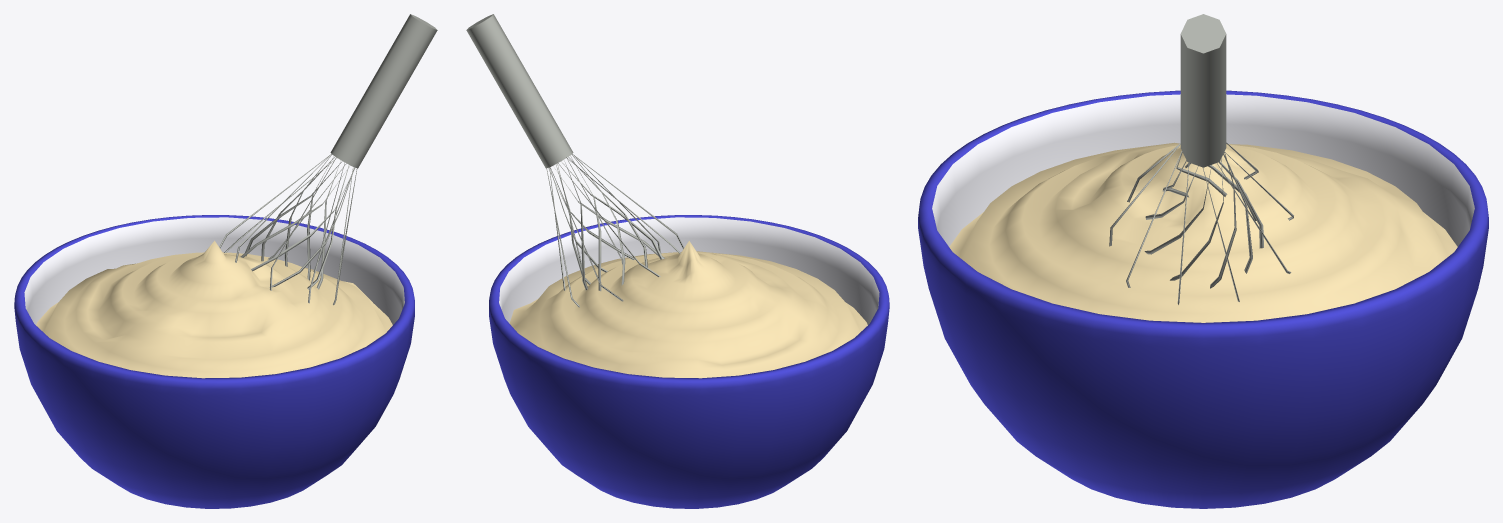
The model's file is cakeBatter.obj.
3 renders of one model, left to right at view 1: azimuth 30°, elevation 25°; view 2: azimuth 150°, elevation 25°; view 3: azimuth 270°, elevation 25°, orthographic. The views are drawn at different scales.
Visible parts, largest first — view 1: Sphere001, Cylinder001, Cylinder002, Torus_Knot001; view 2: Sphere001, Cylinder001, Cylinder002, Torus_Knot001; view 3: Sphere001, Cylinder001, Cylinder002, Torus_Knot001.
Part boxes in pixels (x1,y1,x2,y2): Sphere001: [14, 215, 414, 508]; Cylinder001: [36, 240, 392, 378]; Cylinder002: [330, 14, 437, 168]; Torus_Knot001: [219, 153, 357, 305]; Sphere001: [489, 215, 889, 508]; Cylinder001: [509, 241, 867, 378]; Cylinder002: [466, 14, 573, 168]; Torus_Knot001: [546, 153, 683, 307]; Sphere001: [918, 90, 1488, 508]; Cylinder001: [949, 142, 1457, 322]; Cylinder002: [1180, 14, 1226, 167]; Torus_Knot001: [1109, 142, 1293, 304].
Bounding box in the file's own units: 56.76 × 55.96 × 50.
